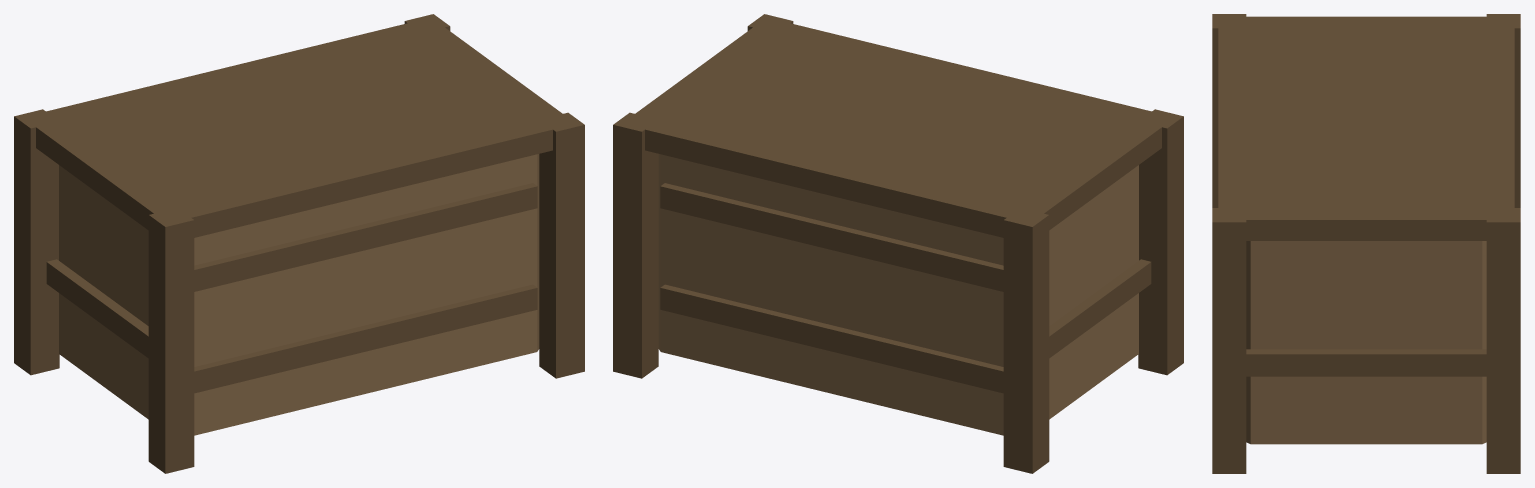
The model's file is crate_large.glb.
The picture shows the model from 3 angles, left to right: view 1: azimuth 30°, elevation 25°; view 2: azimuth 150°, elevation 25°; view 3: azimuth 270°, elevation 25°; orthographic projection.
Parts seen in each view (by area): view 1: crate_large; view 2: crate_large; view 3: crate_large.
Part boxes in pixels (x1=…): crate_large: x1=14, y1=14, x2=584, y2=473; crate_large: x1=613, y1=14, x2=1183, y2=473; crate_large: x1=1212, y1=14, x2=1520, y2=473.
Bounding box in the file's own units: 0.8 × 0.45 × 0.5.
